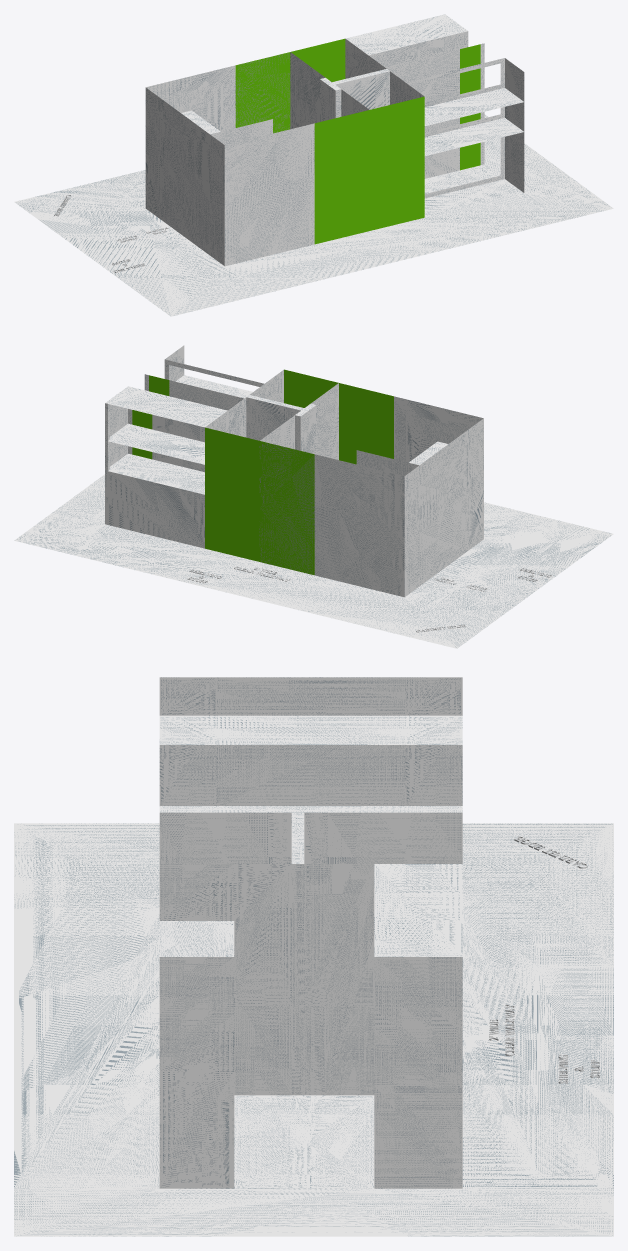
The model's file is 09-SIMULATIONMASSING-ADUDOORS_FABRICATIONAREA.dae.
3 views of the same model, one above another, from view 1: azimuth 30°, elevation 25°; view 2: azimuth 150°, elevation 25°; view 3: azimuth 270°, elevation 25° (orthographic). The views are drawn at different scales.
Visible parts, largest first — view 1: group_3 (×2), group_11, group_12, group_5, group_10, group_6, group_9; view 2: group_3, group_6, group_10, group_9, group_12, group_5, group_11; view 3: group_3, group_6, group_5.
Boxes of the visible parts, x1,y1,x2,y2 form: group_3 (×2): (14, 14, 561, 316); group_11: (369, 96, 424, 230); group_12: (314, 110, 369, 244); group_5: (484, 114, 613, 221); group_10: (235, 52, 290, 133); group_6: (17, 170, 246, 316); group_9: (291, 38, 345, 81); group_3: (66, 345, 613, 648); group_6: (66, 511, 612, 648); group_10: (259, 441, 314, 575); group_9: (205, 427, 259, 561); group_12: (339, 383, 393, 464); group_5: (14, 474, 104, 553); group_11: (284, 369, 338, 407); group_3: (14, 677, 613, 1188); group_6: (14, 823, 613, 1188); group_5: (14, 1188, 613, 1236).
Bounding box in the file's own units: 310 × 190 × 81.
